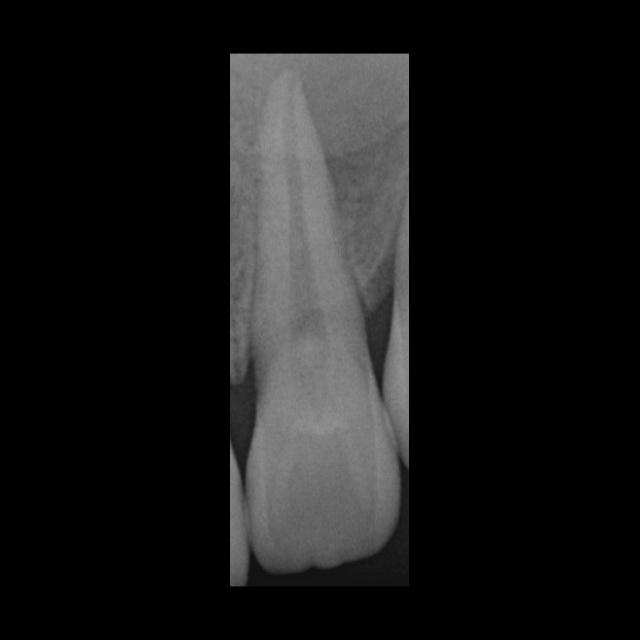tooth: (244, 65, 401, 575)
